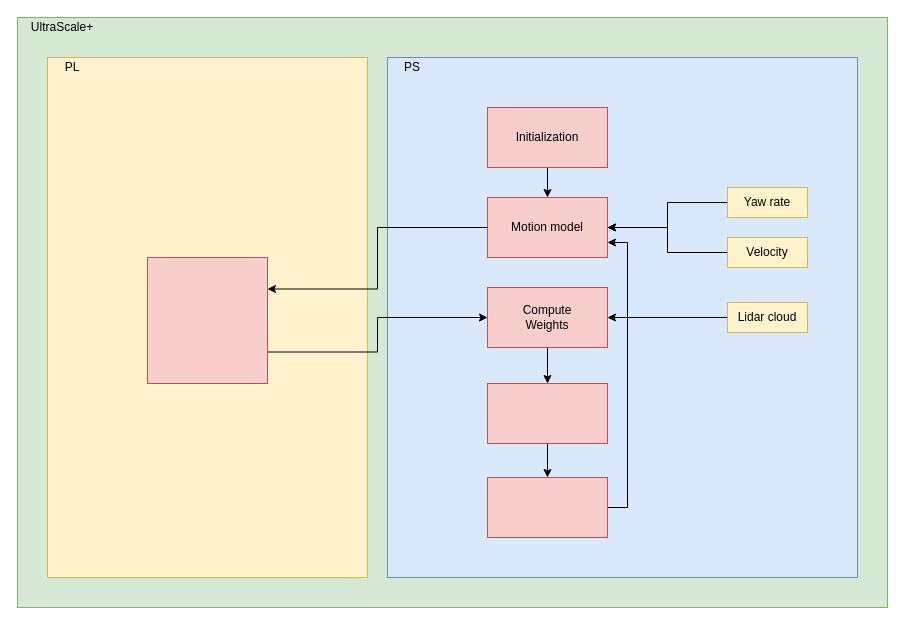
Some shapes in this 905 by 625 pixel diagram are drawn without their labels. Here are the shapes that lost their labels. From the top down, the centre of each, then its label:
point (207, 320): Ray marching
point (547, 413): Normalize
point (547, 507): Resample
